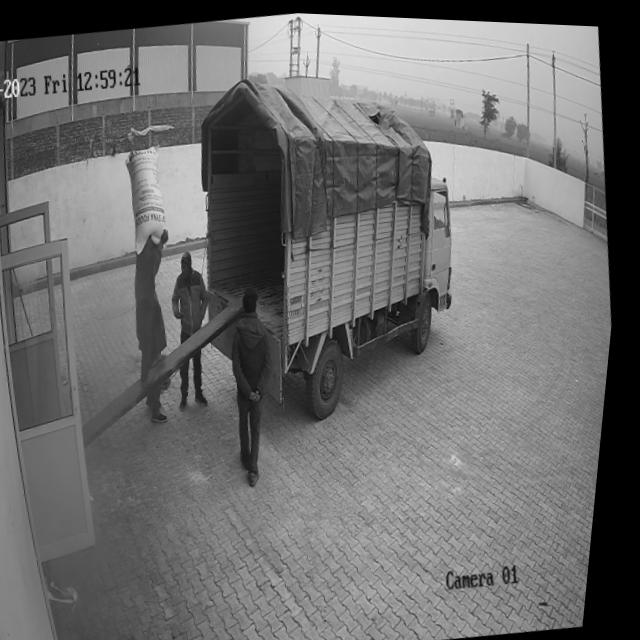sack: (120, 140, 181, 257)
